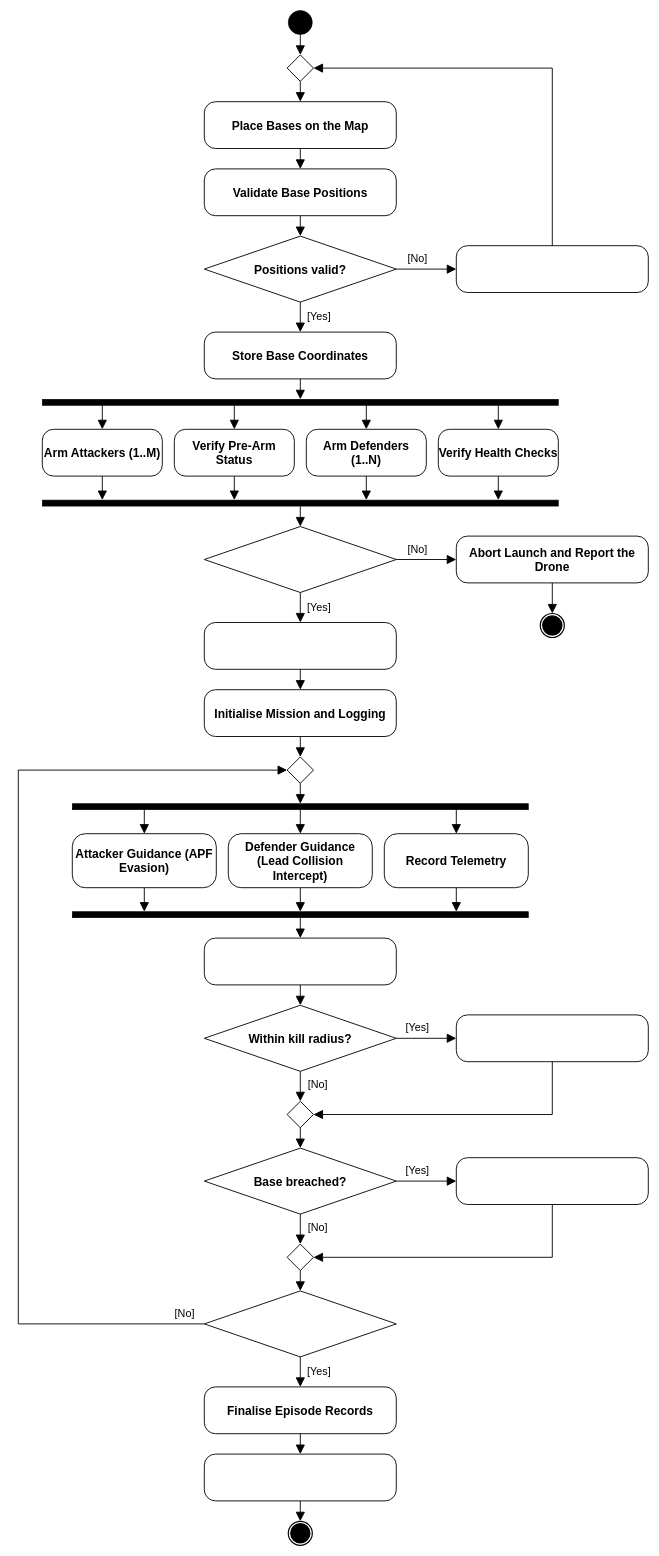
Image size: 659x1556. Some labels were removed from this diagram. Here are the shapes that lost their labels. From the top down, the box of each, then its label:
(456, 245, 648, 293): Display Placement Error
(204, 526, 396, 593): Every drone armed?
(204, 622, 396, 669): Set Offboard Mode and Hover
(204, 937, 396, 985): Execute Trajectory Setpoints
(456, 1014, 648, 1062): Neutralise the Attacker
(456, 1157, 648, 1205): Record the Base Breach
(204, 1290, 396, 1357): Mission complete?
(204, 1453, 396, 1501): Land and Disarm Every Drone
